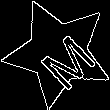M_NW: (24, 18, 93, 87)
